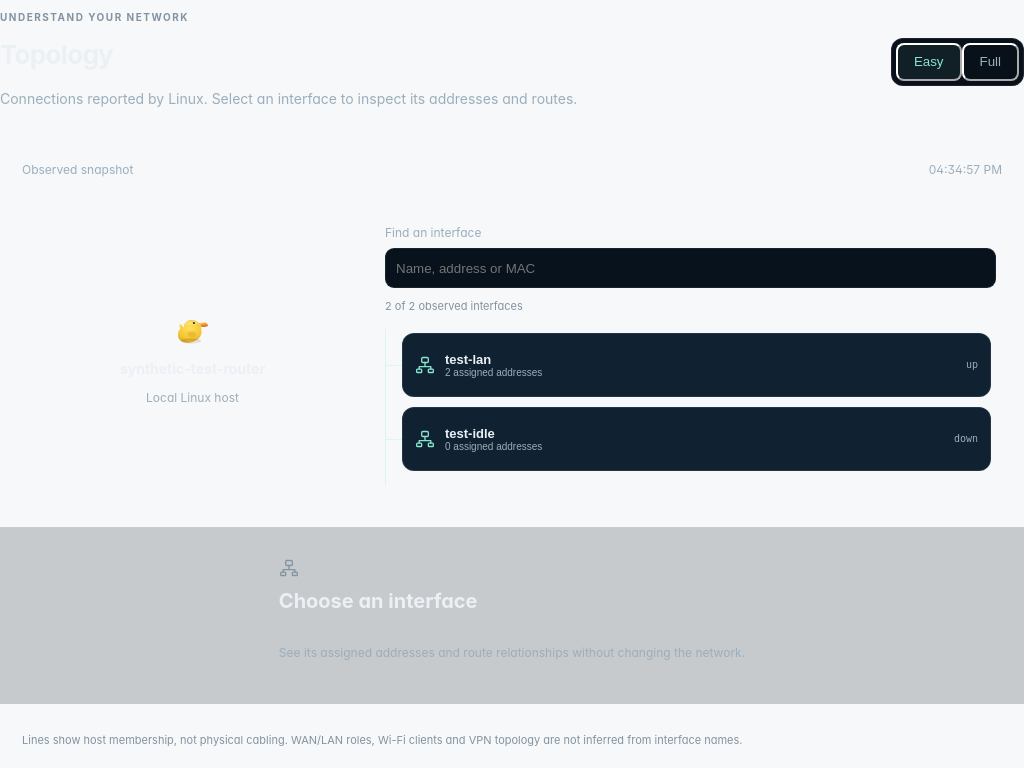
shows observed relationships without probing or inferring interface roles
The width and height of the screenshot is (1024, 768).
Check: the heading "Choose an interface" is shown, box [279,588,478,612]
Click the button with aria-label "Inspect interface test-lan" at (468, 359), box [402,332,991,396]
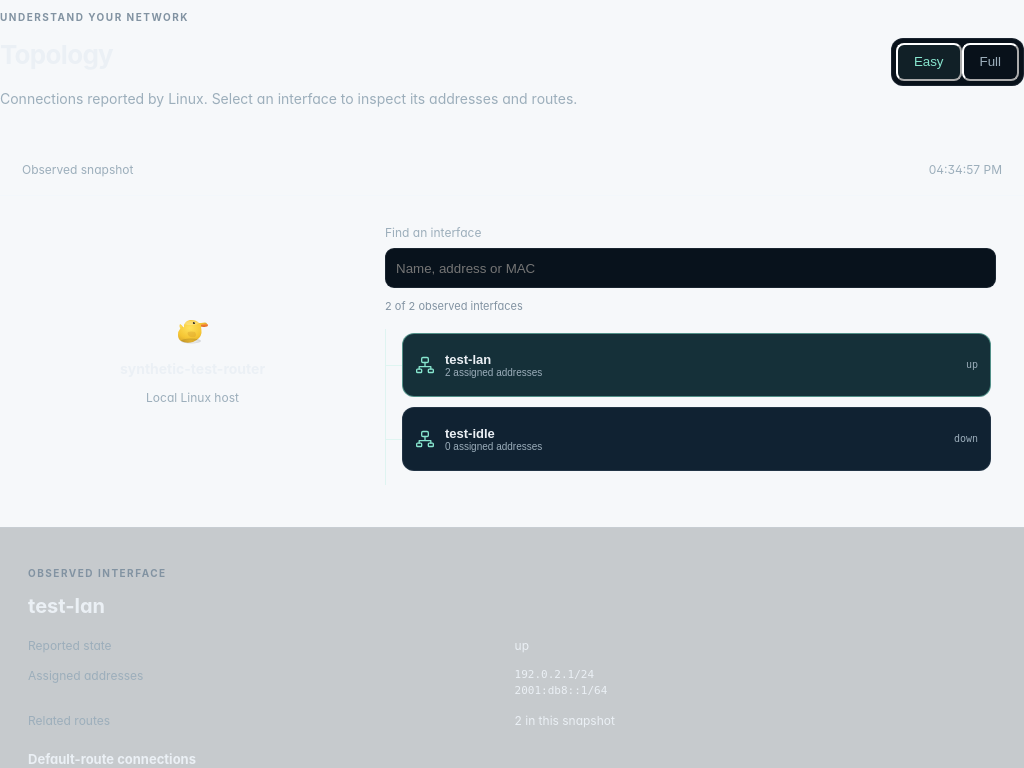
Check: the text "192.0.2.1/24" is shown, box [514,668,594,680]
Check: the text "2001:db8::1/64" is shown, box [514,684,607,697]
Click the button "Full" at (990, 62), box [962,42,1019,80]
(page scrolled)
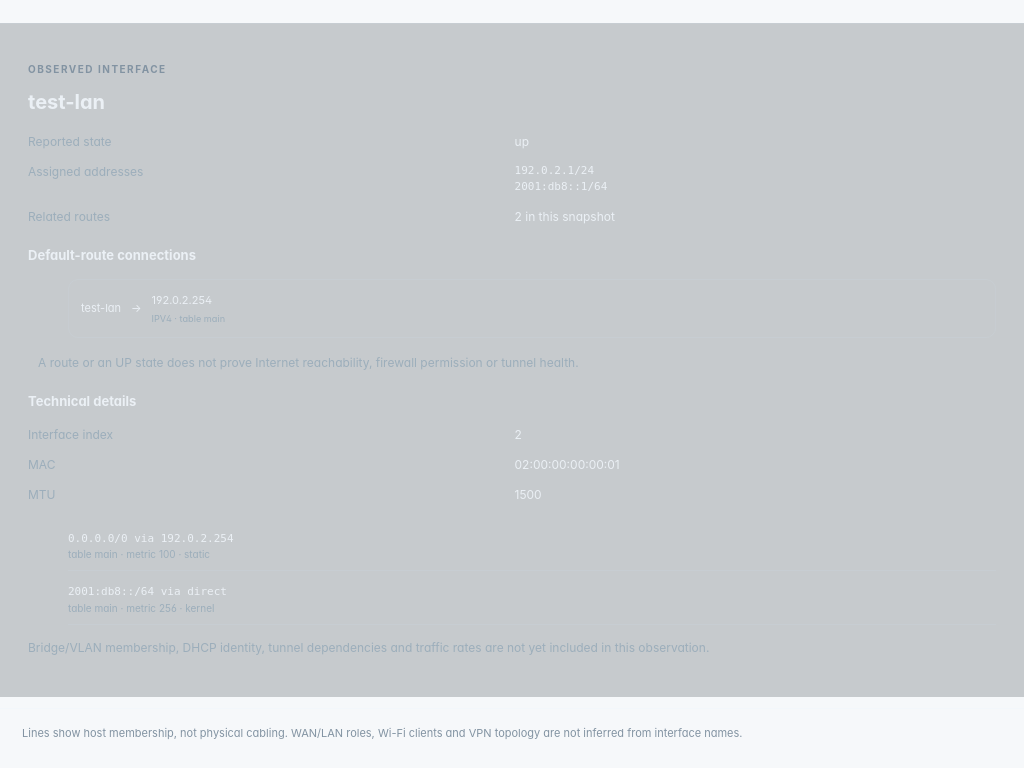
Check: the text "MTU" is shown, box [28,487,56,502]
Check: the text "table main · metric 100 · static" is shown, box [68,548,210,560]
